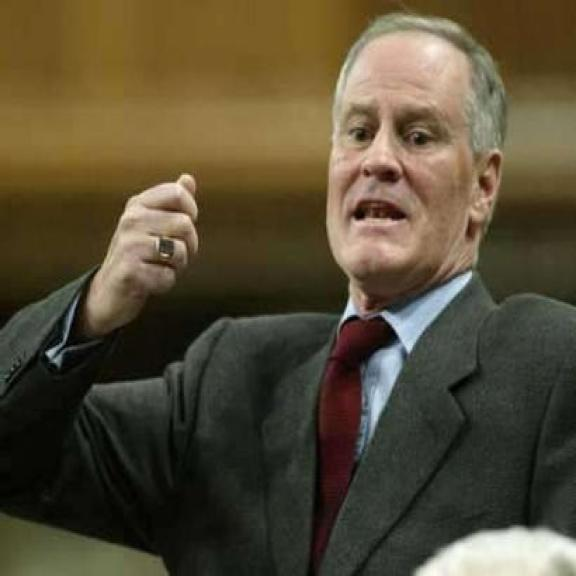face: (326, 16, 506, 285)
